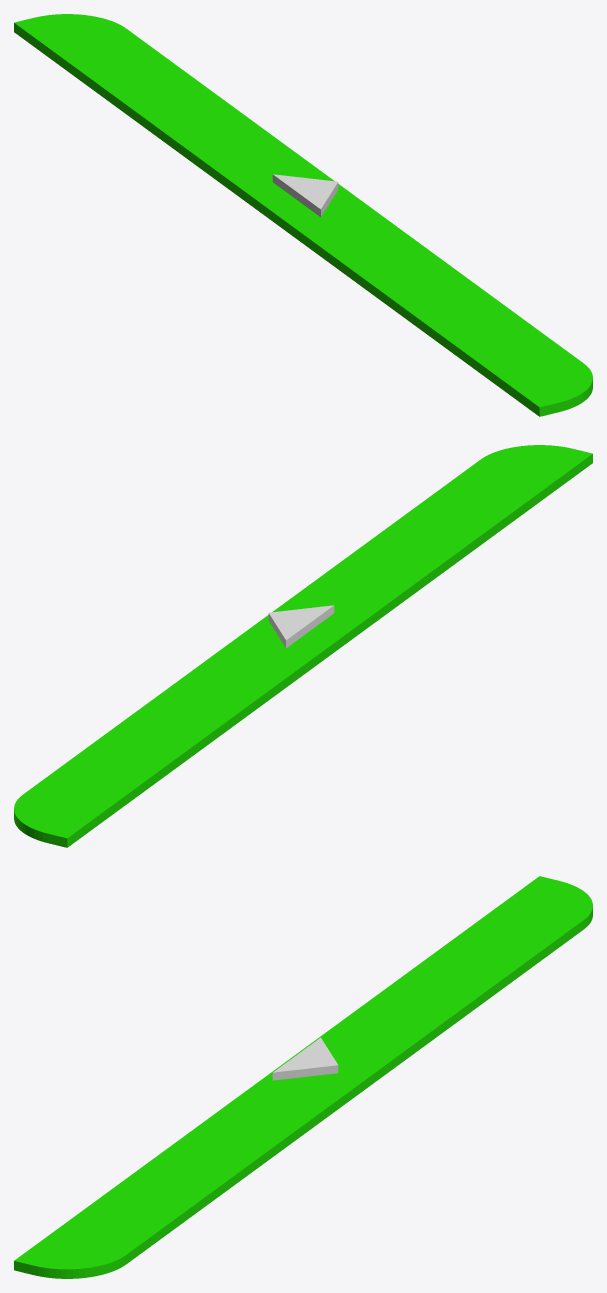
Rendered from down_arrow.fbx.
The picture shows the model from 3 angles, top to bottom: view 1: azimuth 30°, elevation 25°; view 2: azimuth 150°, elevation 25°; view 3: azimuth 330°, elevation 25°; orthographic projection.
Parts seen in each view (by area): view 1: PannelR, ArrowR; view 2: PannelR, ArrowR; view 3: PannelR, ArrowR.
Boxes of the visible parts, <box> form: PannelR: <box>14,14,592,416</box>; ArrowR: <box>272,174,338,217</box>; PannelR: <box>14,445,592,847</box>; ArrowR: <box>268,605,334,648</box>; PannelR: <box>14,876,592,1278</box>; ArrowR: <box>272,1037,338,1080</box>.
Size of the model in its own units: 85.89 by 29.18 by 1000.
